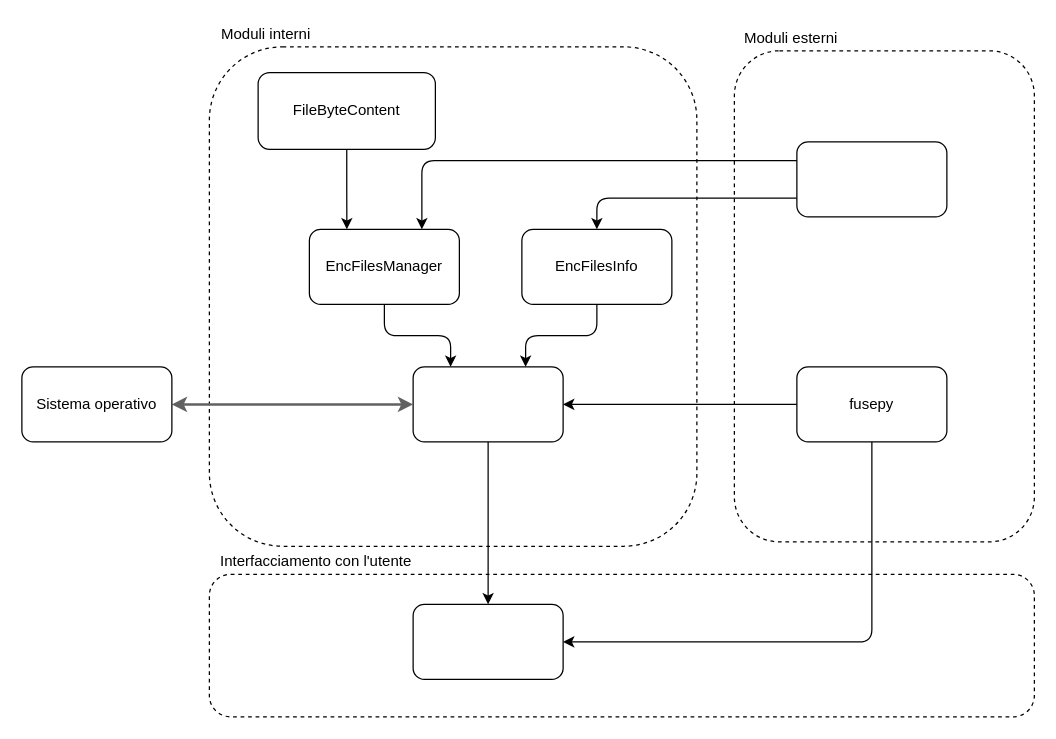
Some shapes in this 1056 by 739 pixel diagram are drawn without their labels. The shapes that lost their labels are listed below. From the top down, each one's centre as x and y in pixels, then its label:
At [871,179]: "aesmix".
At [487,404]: "FreyaFS".
At [487,641]: "main".
